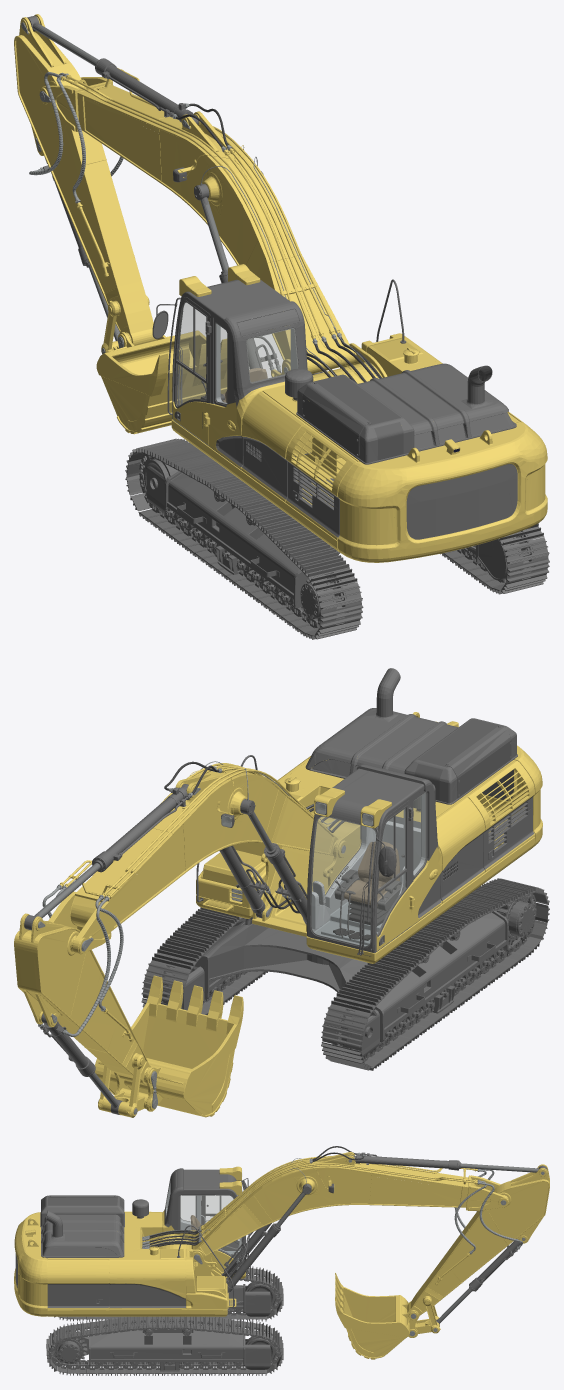
The model's file is excavator.glb.
The picture shows the model from 3 angles, top to bottom: view 1: azimuth 30°, elevation 25°; view 2: azimuth 150°, elevation 25°; view 3: azimuth 270°, elevation 25°; orthographic projection. The views are drawn at different scales.
Visible parts, largest first — view 1: CAT_336_75_3, CAT_336_75_5, CAT_336_75_0, CAT_336_75_7; view 2: CAT_336_75_3, CAT_336_75_0, CAT_336_75_7, CAT_336_75_5, CAT_336_75_2; view 3: CAT_336_75_3, CAT_336_75_0, CAT_336_75_5, CAT_336_75_7.
Boxes of the visible parts, x1,y1,x2,y2 form: CAT_336_75_3: (14, 14, 549, 639); CAT_336_75_5: (111, 112, 403, 460); CAT_336_75_0: (21, 22, 459, 496); CAT_336_75_7: (176, 302, 298, 406); CAT_336_75_3: (14, 668, 549, 1117); CAT_336_75_0: (34, 761, 492, 1114); CAT_336_75_7: (221, 792, 425, 946); CAT_336_75_5: (137, 719, 511, 906); CAT_336_75_2: (221, 801, 404, 910); CAT_336_75_3: (14, 1152, 549, 1375); CAT_336_75_0: (98, 1146, 544, 1336); CAT_336_75_5: (41, 1171, 430, 1209); CAT_336_75_7: (166, 1185, 245, 1257).
Size of the model in its own units: 34.71 by 46.05 by 114.
Materials: 5 (5 with a texture image).
